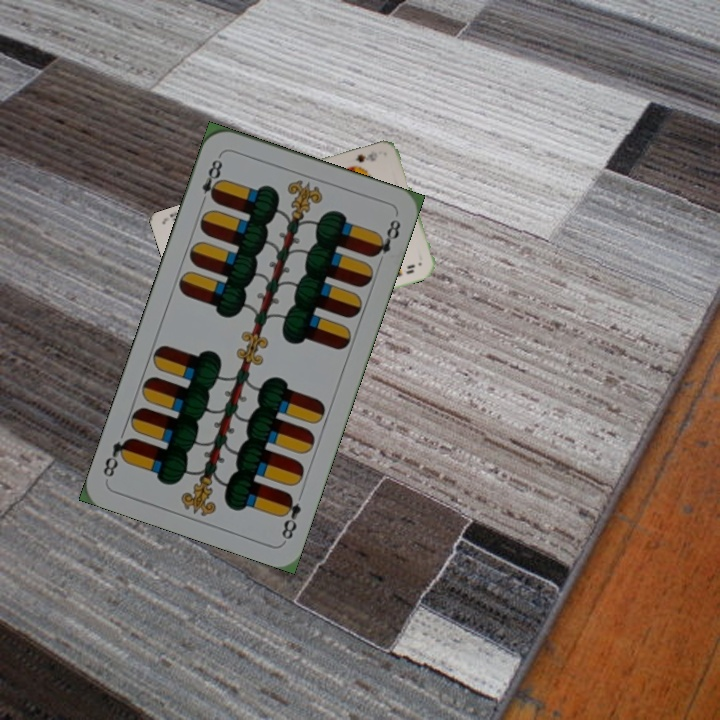E8: (196, 151, 226, 208), (277, 490, 304, 542)
S9: (351, 146, 380, 165)
